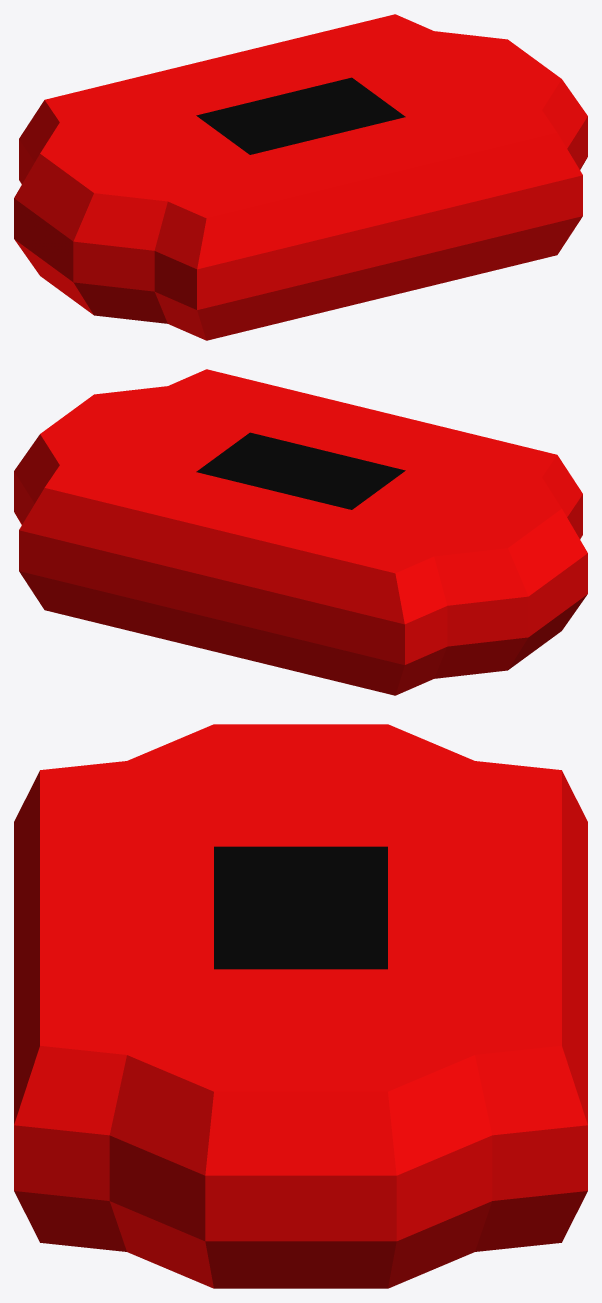
File: Nota_Roja.fbx
The picture shows the model from 3 angles, top to bottom: view 1: azimuth 30°, elevation 25°; view 2: azimuth 150°, elevation 25°; view 3: azimuth 270°, elevation 25°; orthographic projection. The views are drawn at different scales.
Parts seen in each view (by area): view 1: Nota_Roja; view 2: Nota_Roja; view 3: Nota_Roja.
Part boxes in pixels (box(x1,y1,x2,y2)): Nota_Roja: box(14, 14, 587, 340); Nota_Roja: box(14, 369, 587, 695); Nota_Roja: box(14, 724, 587, 1288).
Bounding box in the file's own units: 2.2 × 0.5 × 1.32.
